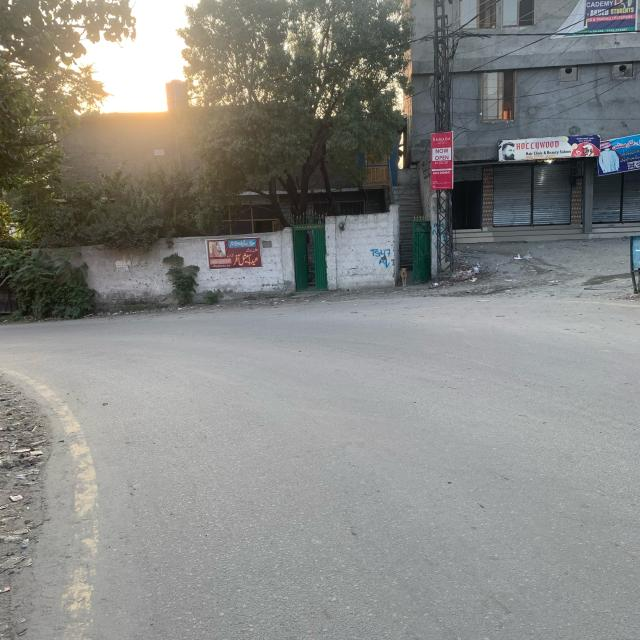Left-Turn: (3, 320, 326, 478)
